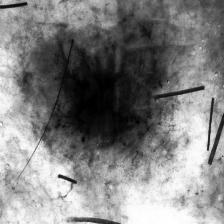Benign Marking or Mole: (52, 49, 156, 140)
